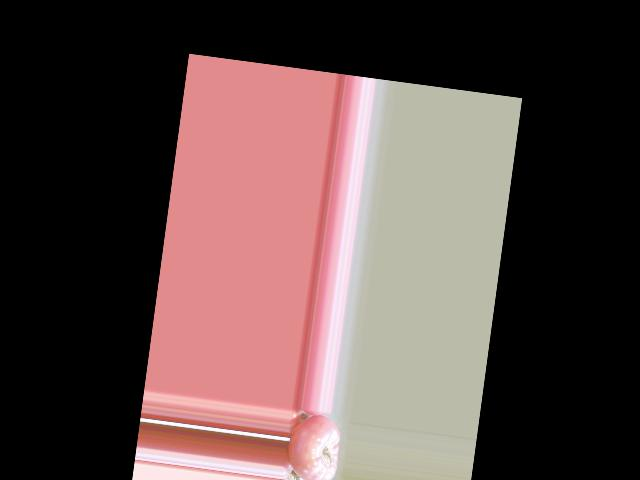tomato: (284, 410, 343, 480)
